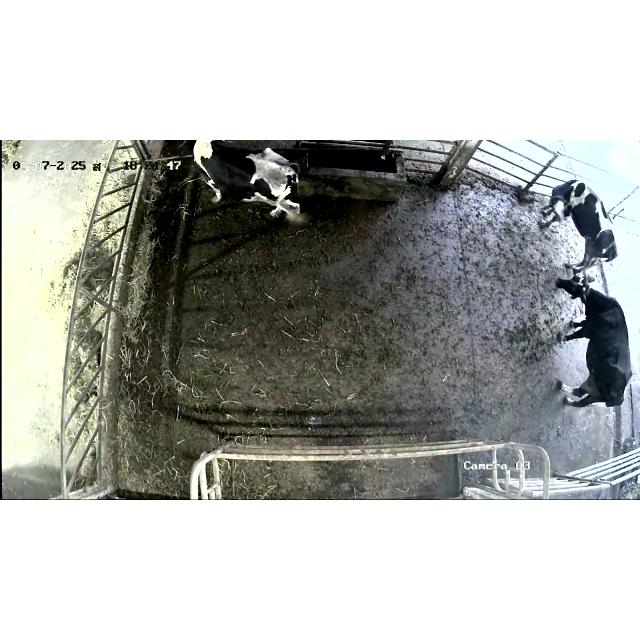stand: (555, 275, 632, 407), (193, 140, 307, 223), (539, 180, 618, 274)
